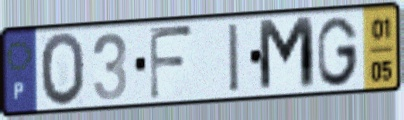3: (91, 31, 129, 102)
F: (147, 24, 196, 103)
G: (315, 14, 361, 89)
I: (226, 20, 243, 96)
M: (255, 14, 319, 96)
O: (38, 30, 88, 109)
